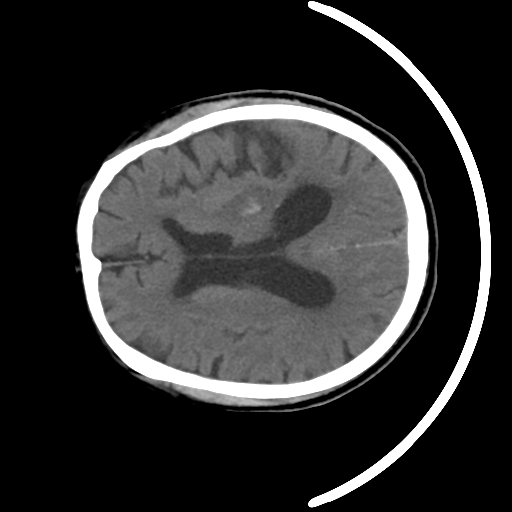a: (207, 175, 289, 237)
